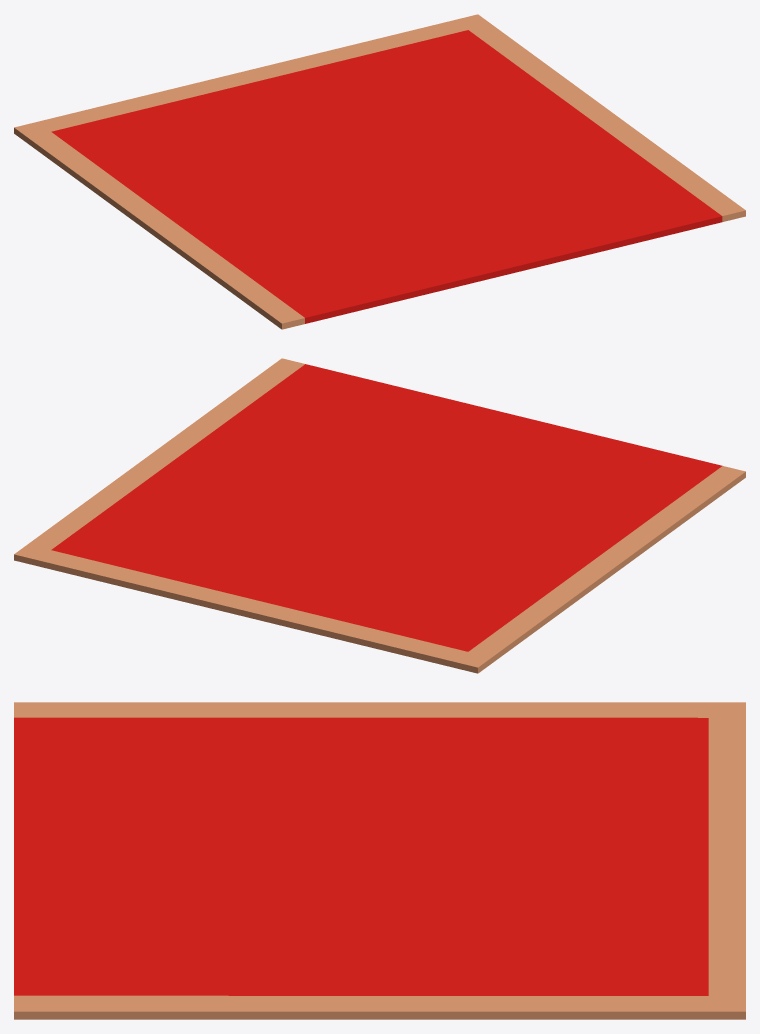
Rendered from carpet-wide-end.fbx.
The picture shows the model from 3 angles, top to bottom: view 1: azimuth 30°, elevation 25°; view 2: azimuth 150°, elevation 25°; view 3: azimuth 270°, elevation 25°; orthographic projection. The views are drawn at different scales.
Parts seen in each view (by area): view 1: carpet-wide-end; view 2: carpet-wide-end; view 3: carpet-wide-end.
Part boxes in pixels (x1,y1,x2,y2): carpet-wide-end: (14, 14, 745, 329); carpet-wide-end: (14, 358, 745, 673); carpet-wide-end: (14, 702, 745, 1019).
Size of the model in its own units: 400 by 5 by 400.
